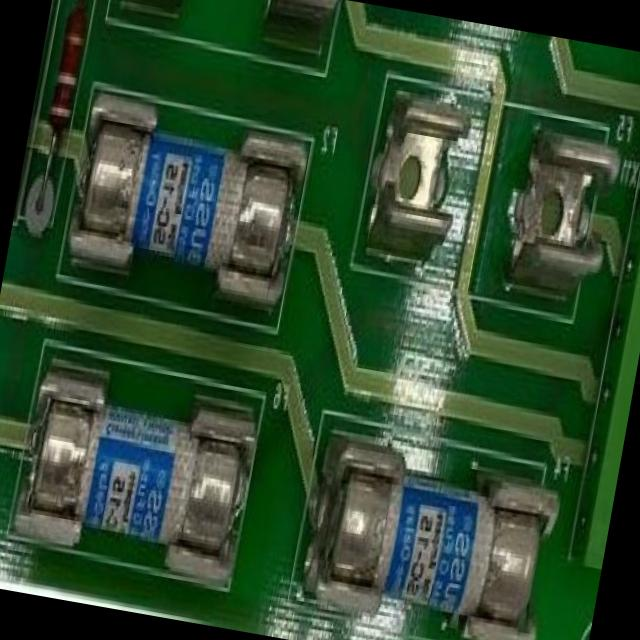resistor: (33, 0, 95, 169)
